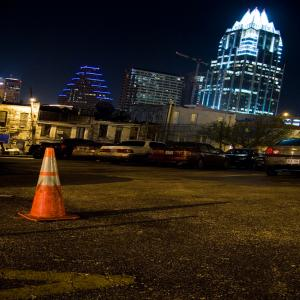Vehicle-registration-plate: (288, 159, 300, 166), (166, 151, 174, 157)
